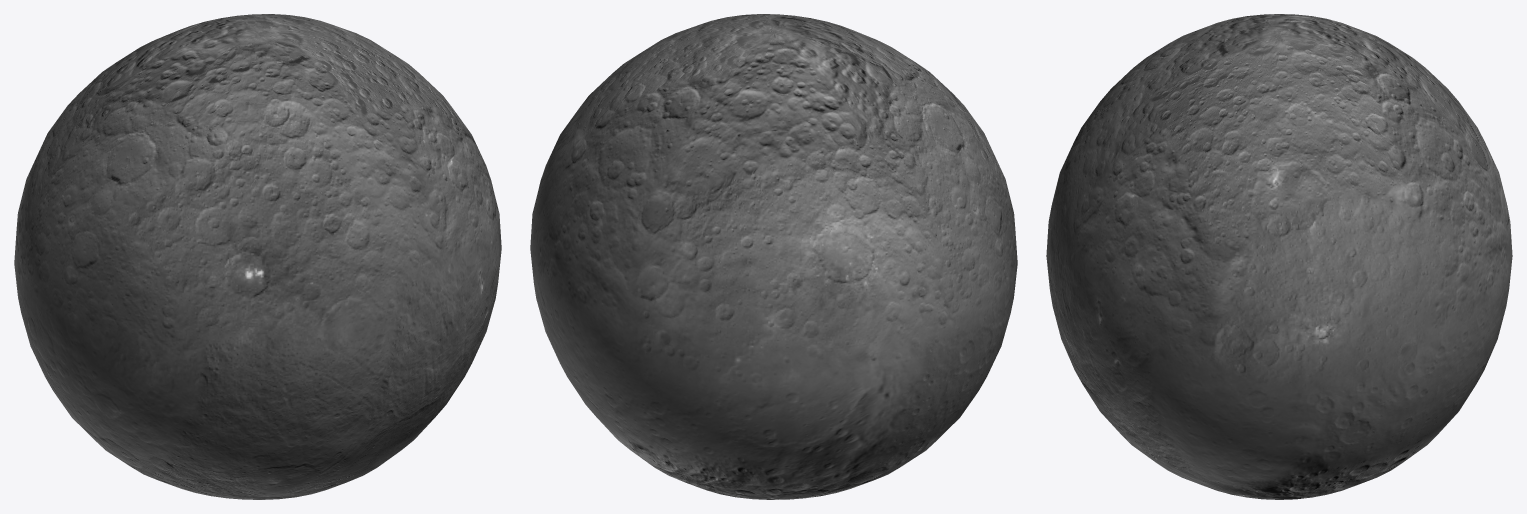
The model's file is ceres.glb.
3 views of the same model, side by side, from view 1: azimuth 30°, elevation 25°; view 2: azimuth 150°, elevation 25°; view 3: azimuth 270°, elevation 25° (orthographic).
Bounding box in the file's own units: 2.04 × 2.02 × 1.94.
1 material, 1 textured.
